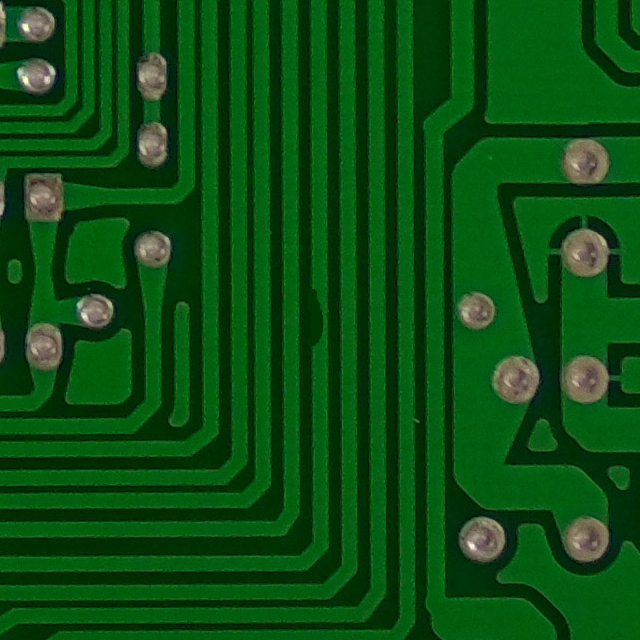mouse_bite: (301, 278, 339, 362)
